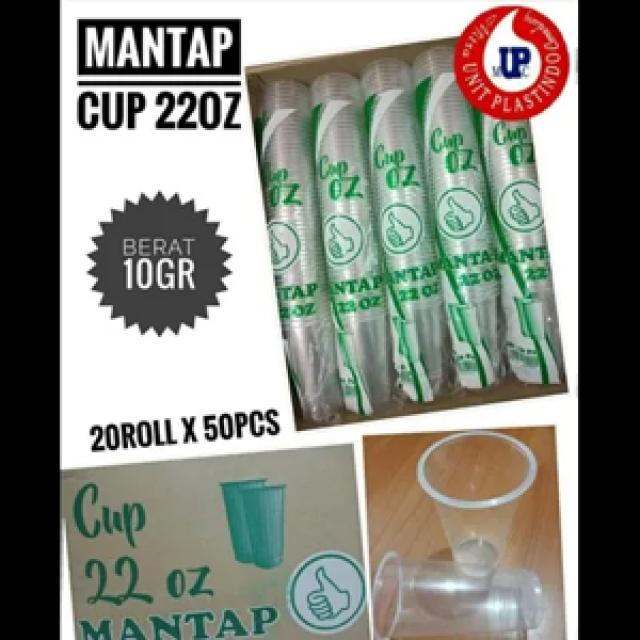plastic cup: (409, 429, 542, 584), (362, 546, 552, 634)
